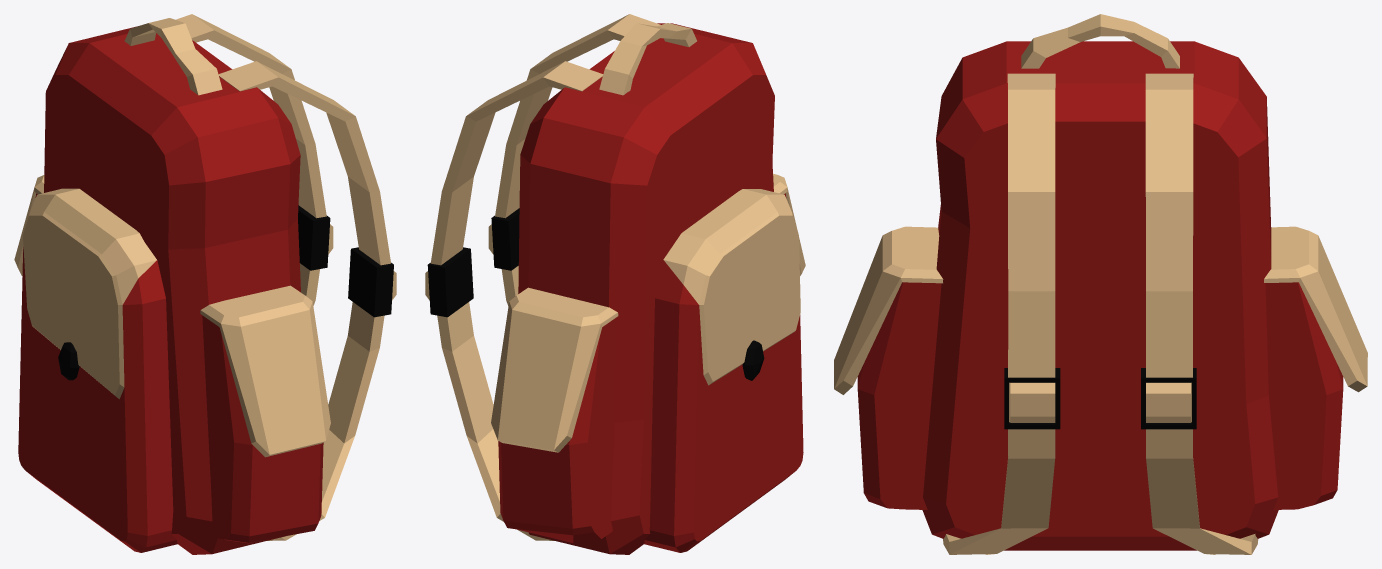
The model's file is backpack2.fbx.
3 views of the same model, side by side, from view 1: azimuth 30°, elevation 25°; view 2: azimuth 150°, elevation 25°; view 3: azimuth 270°, elevation 25° (orthographic). The views are drawn at different scales.
Parts seen in each view (by area): view 1: Backpack_Cube.006; view 2: Backpack_Cube.006; view 3: Backpack_Cube.006.
Boxes of the visible parts, x1,y1,x2,y2 form: Backpack_Cube.006: [14, 14, 396, 554]; Backpack_Cube.006: [425, 14, 805, 554]; Backpack_Cube.006: [834, 14, 1367, 554].
Bounding box in the file's own units: 92.59 × 146 × 136.
